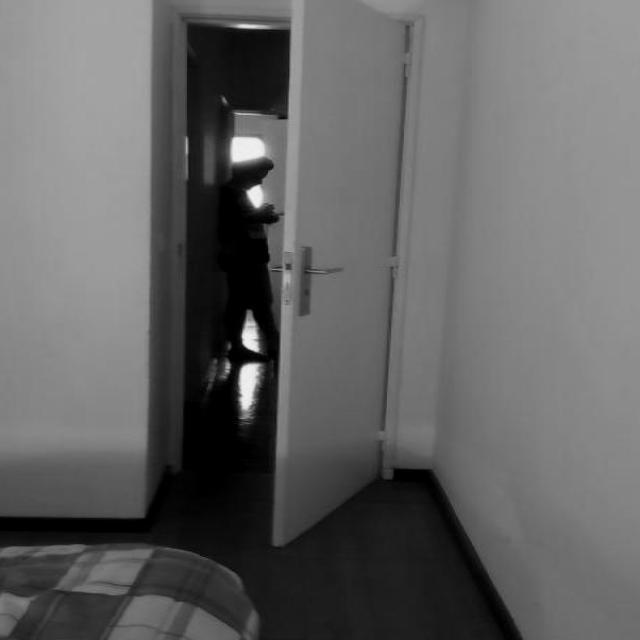door: (263, 0, 407, 558)
